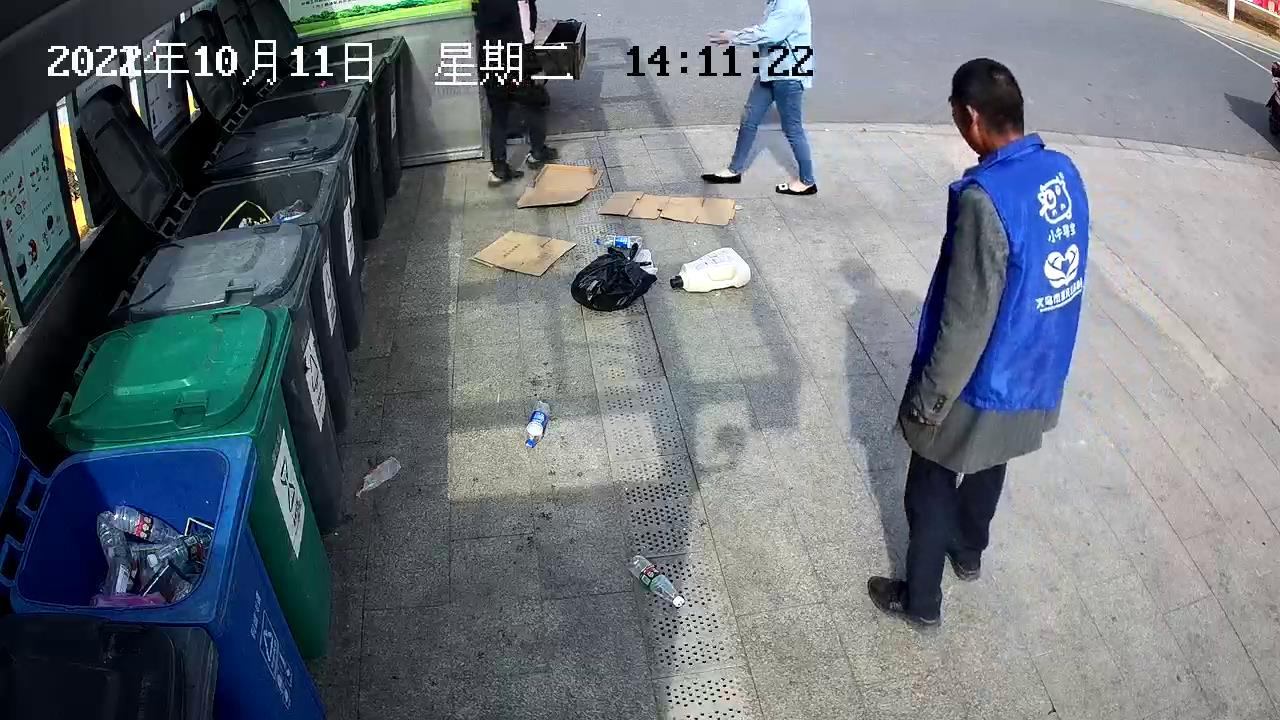garbage-bag: (567, 240, 659, 315)
person: (473, 1, 558, 186)
suliaozhipin: (668, 245, 752, 295), (624, 550, 687, 610), (353, 454, 402, 499), (523, 398, 552, 448), (592, 230, 643, 252)
worker: (865, 56, 1093, 638), (698, 1, 820, 195)
zhizhipin: (597, 187, 738, 228), (469, 227, 578, 279), (514, 160, 604, 208)
